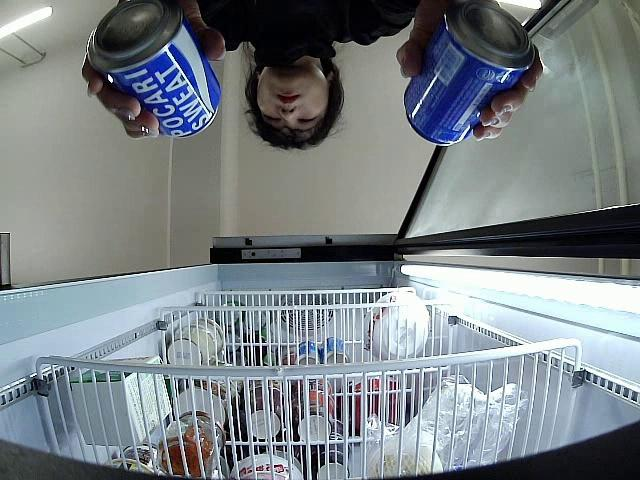00_hand: (396, 0, 544, 141), (81, 0, 226, 141)
13_pocariSweat: (402, 4, 537, 147), (86, 0, 224, 137)
